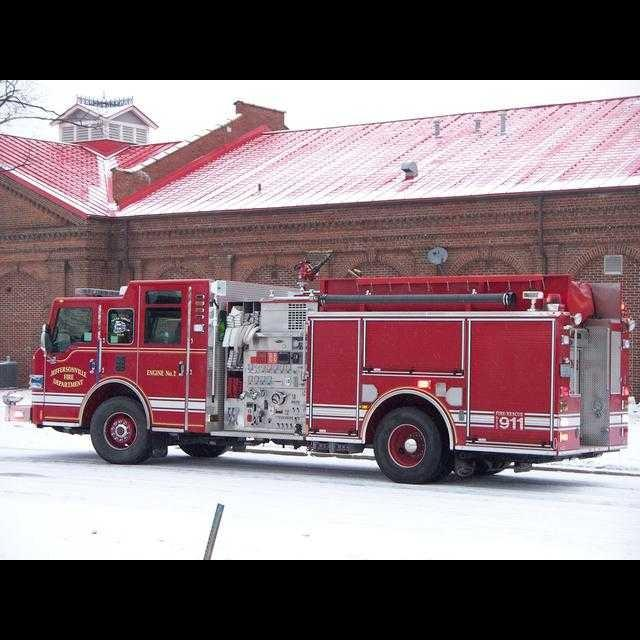emergency: (29, 261, 633, 483)
